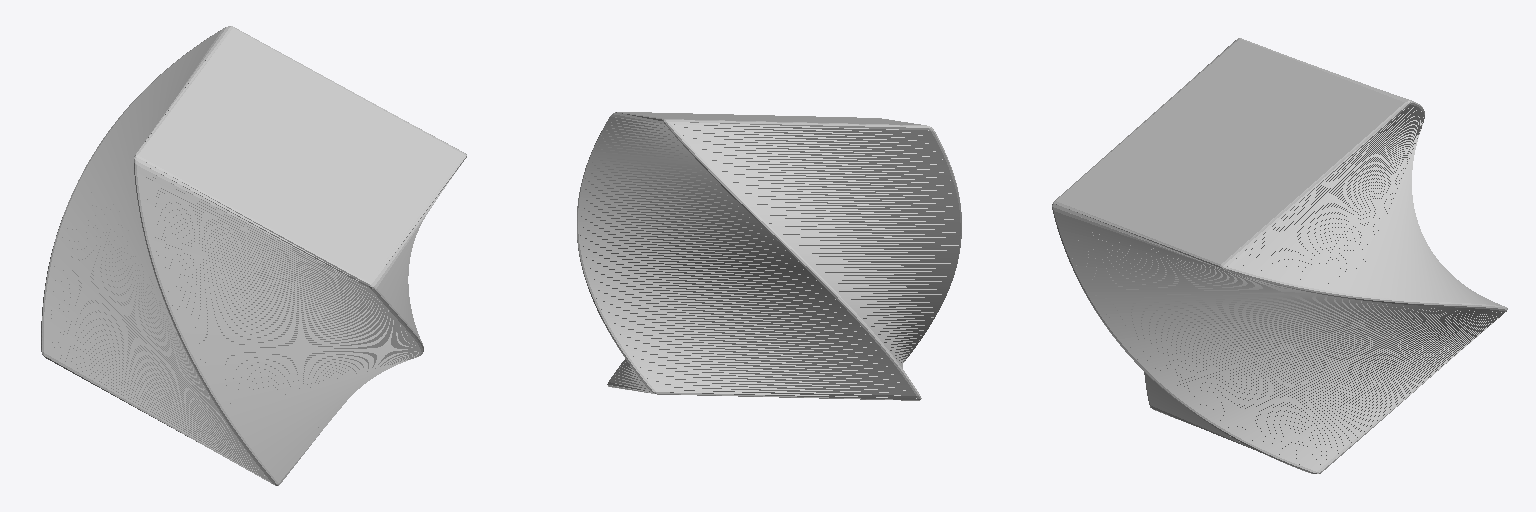
The model's file is refraction.obj.
The picture shows the model from 3 angles: view 1: azimuth 30°, elevation 25°; view 2: azimuth 150°, elevation 25°; view 3: azimuth 270°, elevation 25°; orthographic projection.
Parts seen in each view (by area): view 1: refraction_spiral; view 2: refraction_spiral; view 3: refraction_spiral.
Part boxes in pixels (x1,y1,x2,y2): refraction_spiral: (41,26,466,485); refraction_spiral: (577,112,961,400); refraction_spiral: (1052,38,1507,473).
Size of the model in its own units: 85.65 by 77.39 by 92.12.